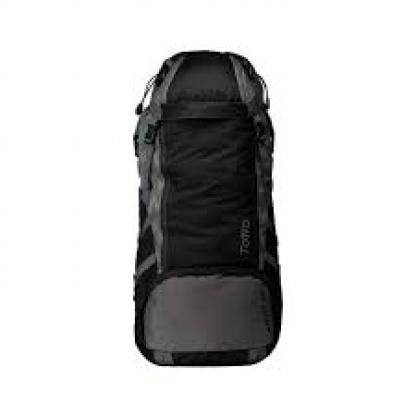morral: (111, 37, 311, 372)
